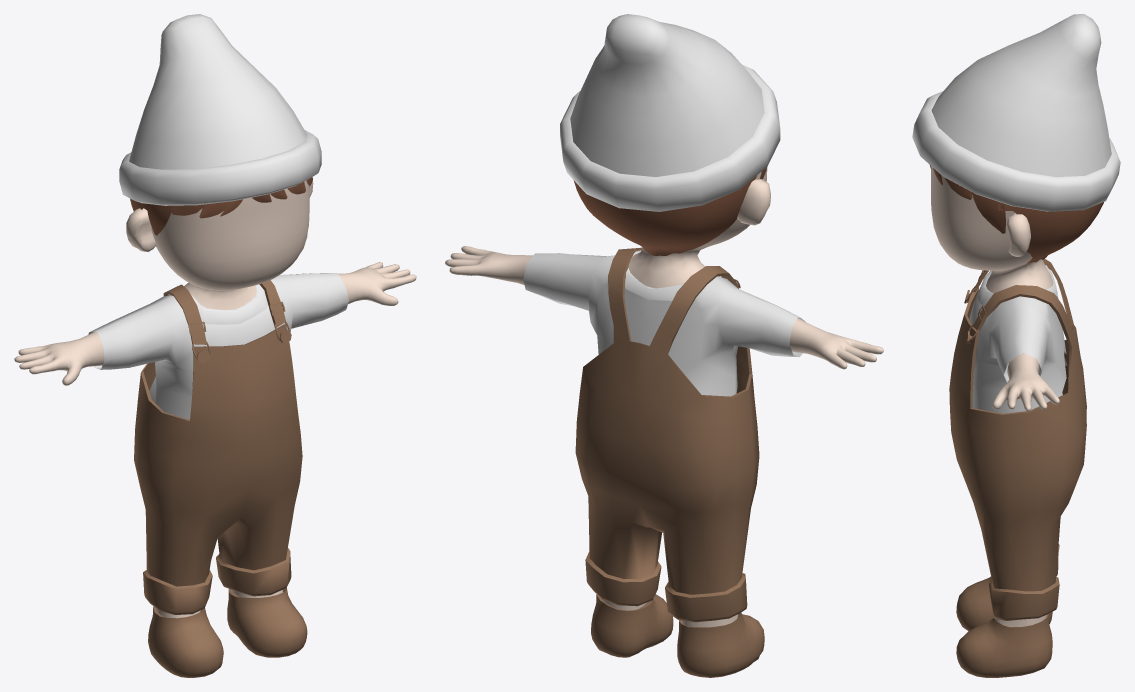
Rendered from new all apply.fbx.
3 renders of one model, left to right at view 1: azimuth 30°, elevation 25°; view 2: azimuth 150°, elevation 25°; view 3: azimuth 270°, elevation 25°, orthographic. The views are drawn at different scales.
Parts seen in each view (by area): view 1: melbbang, Cylinder, shirts, face, shoes, hand feet, ear; view 2: melbbang, Cylinder, shirts, shoes, back hair, hand feet, face, ear; view 3: Cylinder, melbbang, shirts, face, shoes, back hair, hand feet, ear, Retopo_hair.007.
Part boxes in pixels (bbox=[...]): melbbang: bbox=[134, 280, 302, 614]; Cylinder: bbox=[119, 14, 321, 205]; shirts: bbox=[88, 273, 348, 419]; face: bbox=[151, 180, 309, 310]; shoes: bbox=[148, 588, 307, 677]; hand feet: bbox=[14, 262, 416, 618]; ear: bbox=[126, 181, 313, 251]; melbbang: bbox=[575, 247, 759, 622]; Cylinder: bbox=[560, 14, 780, 211]; shirts: bbox=[523, 250, 805, 396]; shoes: bbox=[591, 594, 764, 677]; back hair: bbox=[573, 168, 765, 255]; hand feet: bbox=[445, 246, 883, 627]; face: bbox=[628, 167, 767, 288]; ear: bbox=[737, 179, 770, 225]; Cylinder: bbox=[912, 14, 1120, 211]; melbbang: bbox=[949, 259, 1086, 620]; shirts: bbox=[969, 265, 1067, 413]; face: bbox=[931, 166, 1053, 292]; shoes: bbox=[956, 576, 1052, 677]; back hair: bbox=[997, 201, 1103, 263]; hand feet: bbox=[992, 353, 1059, 627]; ear: bbox=[1007, 213, 1030, 256]; Retopo_hair.007: bbox=[972, 192, 1005, 233].
Size of the model in its own units: 222 by 332 by 99.44.
